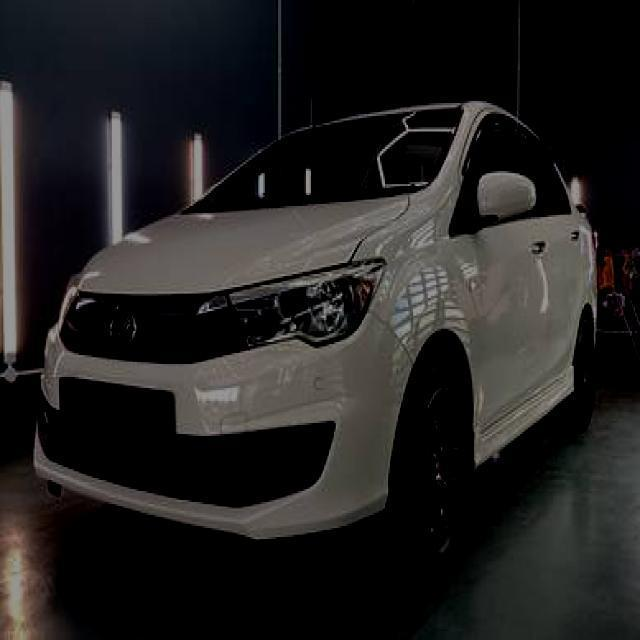PeroduaBezza: (31, 98, 600, 546)
